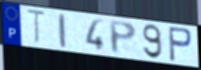4: (84, 17, 107, 53)
9: (141, 23, 164, 61)
I: (57, 12, 68, 50)
P: (108, 19, 139, 56), (167, 25, 194, 63)
T: (25, 8, 48, 47)
